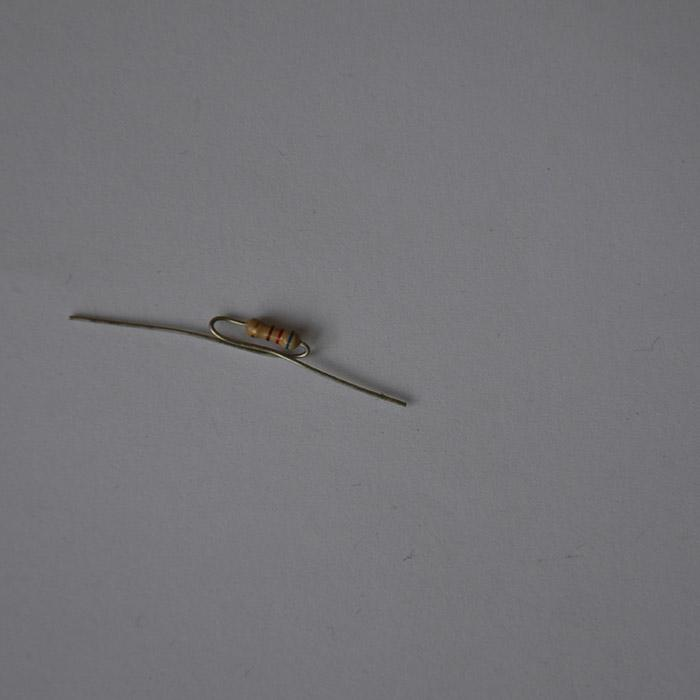resistor: (243, 317, 302, 351)
